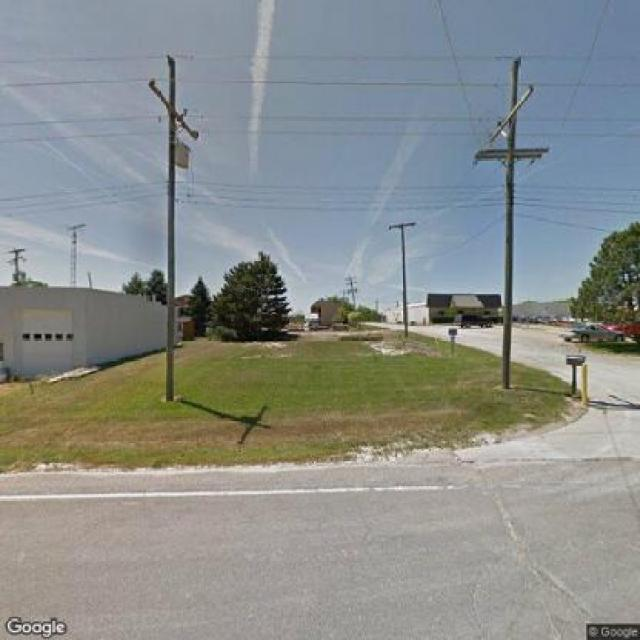pole: (466, 56, 549, 387), (142, 48, 212, 400), (386, 216, 423, 336)
